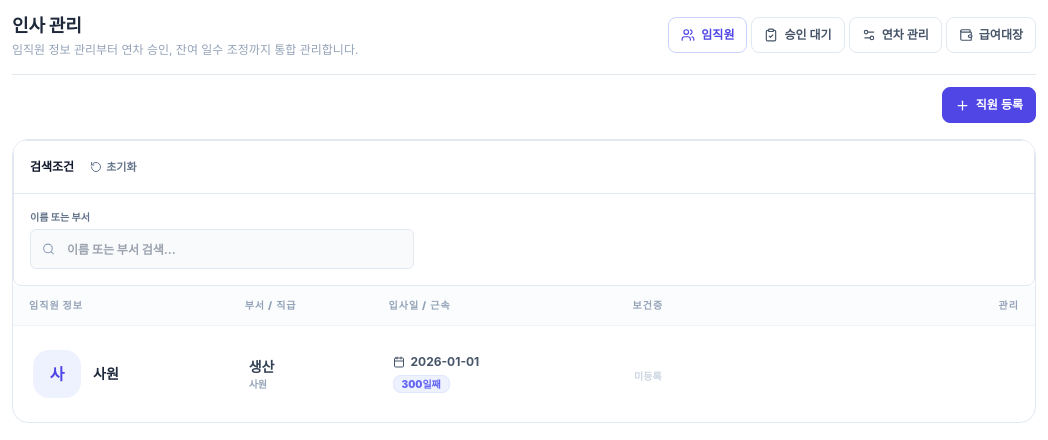
Scenario: 연차 관리에는 장문 설명 박스 대신 기존 표와 편집 기능만 남긴다
The width and height of the screenshot is (1048, 440).
Click the button "연차 관리": (895, 35) [849,17,942,53]
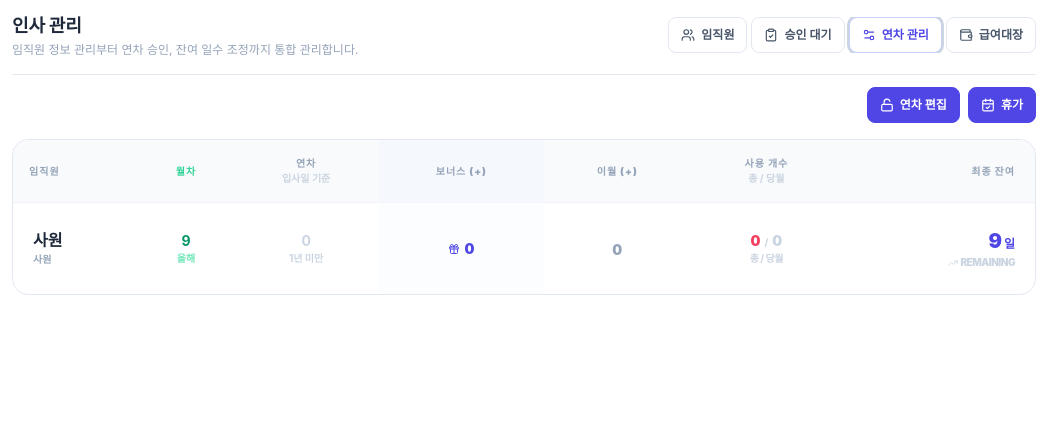
Expected: the button "연차 편집" is shown, [867,87,960,123]
Expected: the column heading "월차" is shown, [139,140,233,202]
